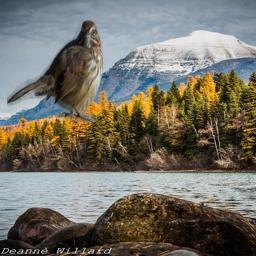Sparrow: (7, 20, 103, 122)
